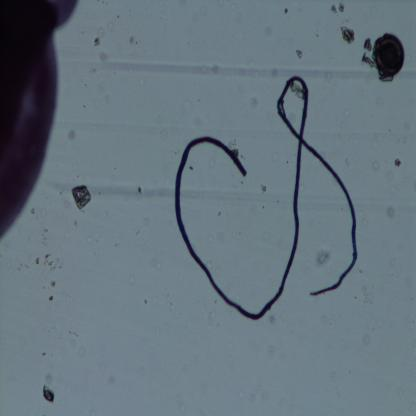Background material: (40, 372, 58, 404), (33, 255, 63, 273), (71, 184, 91, 211), (360, 38, 376, 66), (337, 21, 354, 47), (199, 58, 228, 73), (380, 201, 398, 222), (356, 287, 374, 305), (316, 250, 332, 270), (124, 31, 140, 48), (360, 329, 374, 348), (329, 3, 347, 17), (392, 156, 408, 170), (265, 344, 279, 358), (267, 310, 279, 326), (39, 225, 47, 249), (323, 69, 335, 83), (370, 156, 380, 172), (248, 95, 258, 110), (258, 178, 267, 194), (204, 259, 218, 269), (295, 46, 305, 60), (90, 35, 102, 46), (340, 105, 350, 118), (86, 234, 96, 246), (78, 346, 86, 360), (216, 232, 224, 245), (48, 290, 56, 302), (272, 68, 279, 80), (99, 53, 108, 62), (50, 279, 57, 290), (69, 129, 76, 139), (112, 240, 120, 248), (137, 187, 144, 196), (284, 6, 289, 14), (30, 208, 36, 214), (144, 297, 148, 304)
Cotton: (167, 77, 363, 326)
Diatom: (368, 29, 410, 80)
Pen: (0, 0, 81, 246)
